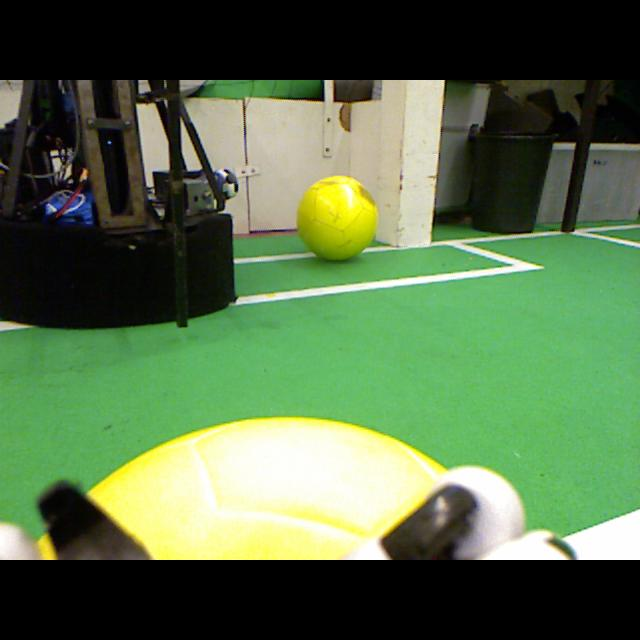ball: (86, 416, 450, 559), (296, 175, 380, 261)
goal: (397, 80, 445, 247)
robot: (0, 80, 236, 330)
